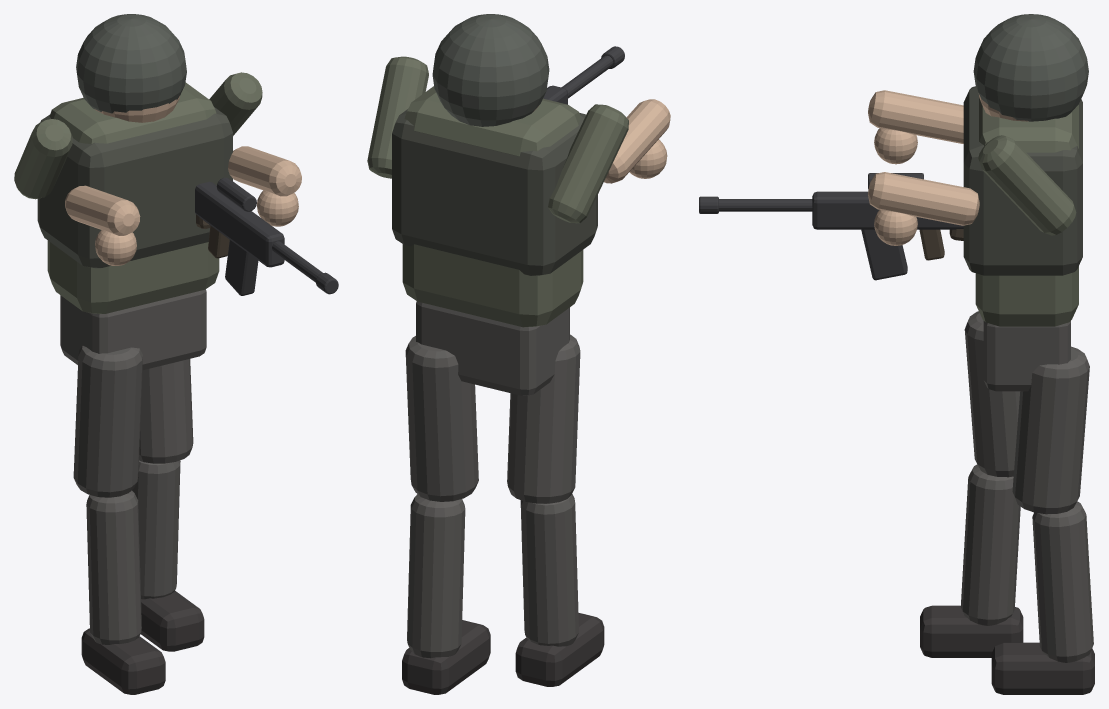
File: soldier.glb
3 views of the same model, side by side, from view 1: azimuth 30°, elevation 25°; view 2: azimuth 150°, elevation 25°; view 3: azimuth 270°, elevation 25° (orthographic). The views are drawn at different scales.
Parts seen in each view (by area): view 1: vest, torso, thigh-1, helmet, pelvis, shin-1, shin1, thigh1, boot-1, receiver, ua-1, boot1 (+10 smaller); view 2: vest, torso, helmet, thigh1, pelvis, thigh-1, shin1, shin-1, ua-1, boot-1, ua1, boot1 (+3 smaller); view 3: vest, thigh1, helmet, torso, shin1, shin-1, thigh-1, ua1, pelvis, boot1, fa1, boot-1 (+7 smaller).
Boxes of the visible parts, x1,y1,x2,y2 form: vest: (37,107,232,268); torso: (47,82,219,313); thigh-1: (73,345,142,497); helmet: (76,14,186,113); pelvis: (60,289,206,369); shin-1: (86,490,141,644); shin1: (132,460,180,599); thigh1: (139,359,193,463); boot-1: (81,628,165,694); receiver: (195,181,284,267); ua-1: (14,119,72,199); boot1: (140,591,204,651); vest: (392,109,597,275); torso: (402,86,583,327); helmet: (432,14,549,126); thigh1: (405,336,478,501); pelvis: (416,301,569,395); thigh-1: (507,334,580,503); shin1: (407,494,465,658); shin-1: (520,494,578,646); ua-1: (548,104,628,223); boot-1: (515,612,604,686); ua1: (367,56,428,178); boot1: (402,620,490,694); vest: (963,86,1082,275); thigh1: (1012,346,1089,514); helmet: (973,14,1088,121); torso: (975,97,1078,326); shin1: (1032,501,1093,662); shin-1: (960,464,1020,625); thigh-1: (964,311,1020,477); ua1: (978,135,1076,235); pelvis: (983,321,1070,391); boot1: (991,642,1094,694); fa1: (868,172,979,225); boot-1: (920,605,1023,657).
Size of the model in its own units: 0.6812 by 1.8 by 0.995.
